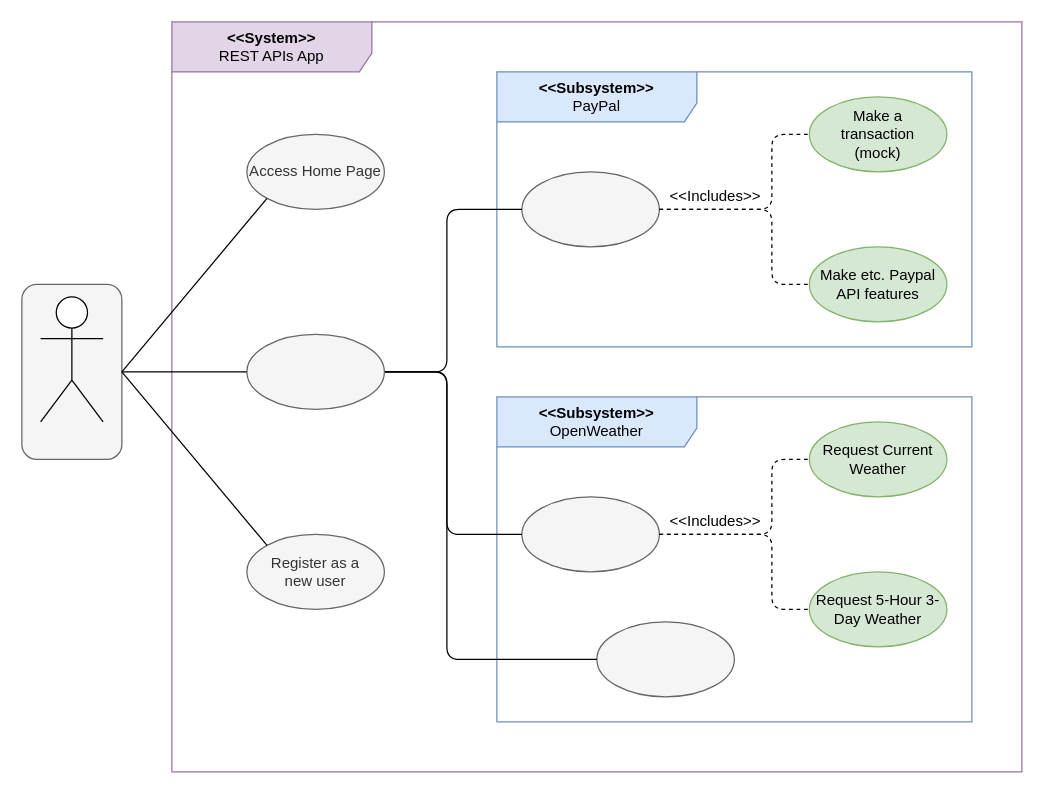
This 1044x794 diagram has some shape labels left out. Each missing label, with the centre of its shape:
"Access OpenWeather Page" belongs at point (590, 534).
"Access PayPal Page" belongs at point (590, 209).
"Log in to application" belongs at point (315, 371).
"User" belongs at point (71, 359).
"View Weather Data (Table/s)" belongs at point (665, 659).
